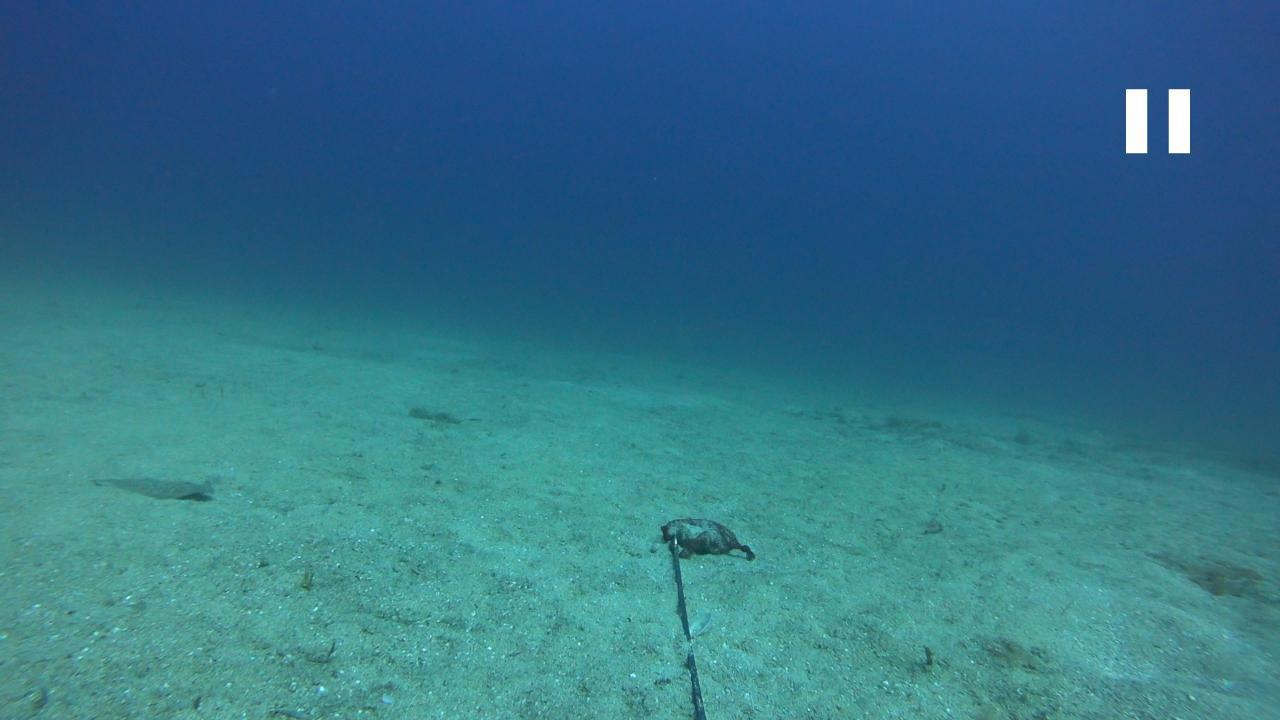bothus: (89, 471, 218, 506)
